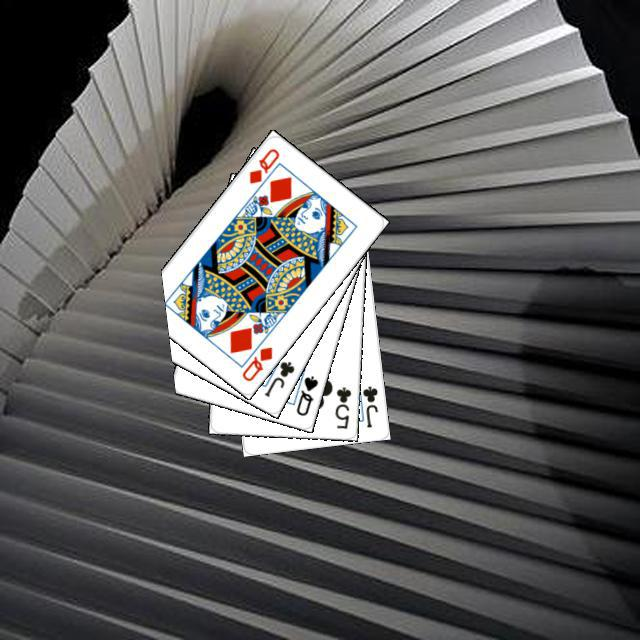5c: (330, 382, 352, 430)
Jc: (259, 356, 296, 399), (358, 381, 380, 429)
Qd: (244, 143, 281, 186), (237, 342, 274, 383)
Qs: (291, 371, 320, 417)
